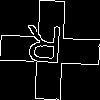R: (25, 25, 63, 73)
